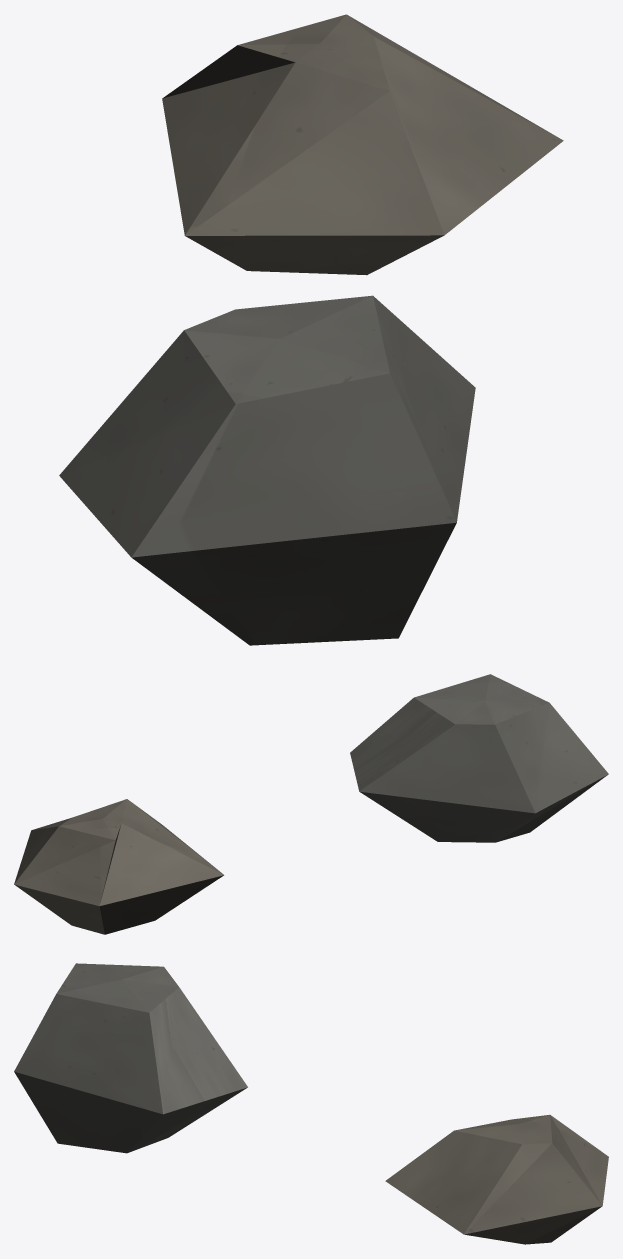
The model's file is DecorativeRockPebblePair.glb.
3 renders of one model, top to bottom at view 1: azimuth 30°, elevation 25°; view 2: azimuth 150°, elevation 25°; view 3: azimuth 270°, elevation 25°, orthographic. The views are drawn at different scales.
Parts seen in each view (by area): view 1: DecorativeRockPebblePair; view 2: DecorativeRockPebblePair; view 3: DecorativeRockPebblePair.
Boxes of the visible parts, x1=… form: DecorativeRockPebblePair: x1=59, y1=14, x2=563, y2=645; DecorativeRockPebblePair: x1=14, y1=674, x2=608, y2=934; DecorativeRockPebblePair: x1=14, y1=963, x2=608, y2=1244.
Bounding box in the file's own units: 0.985 × 0.321 × 1.17.
6 materials, 6 textured.
